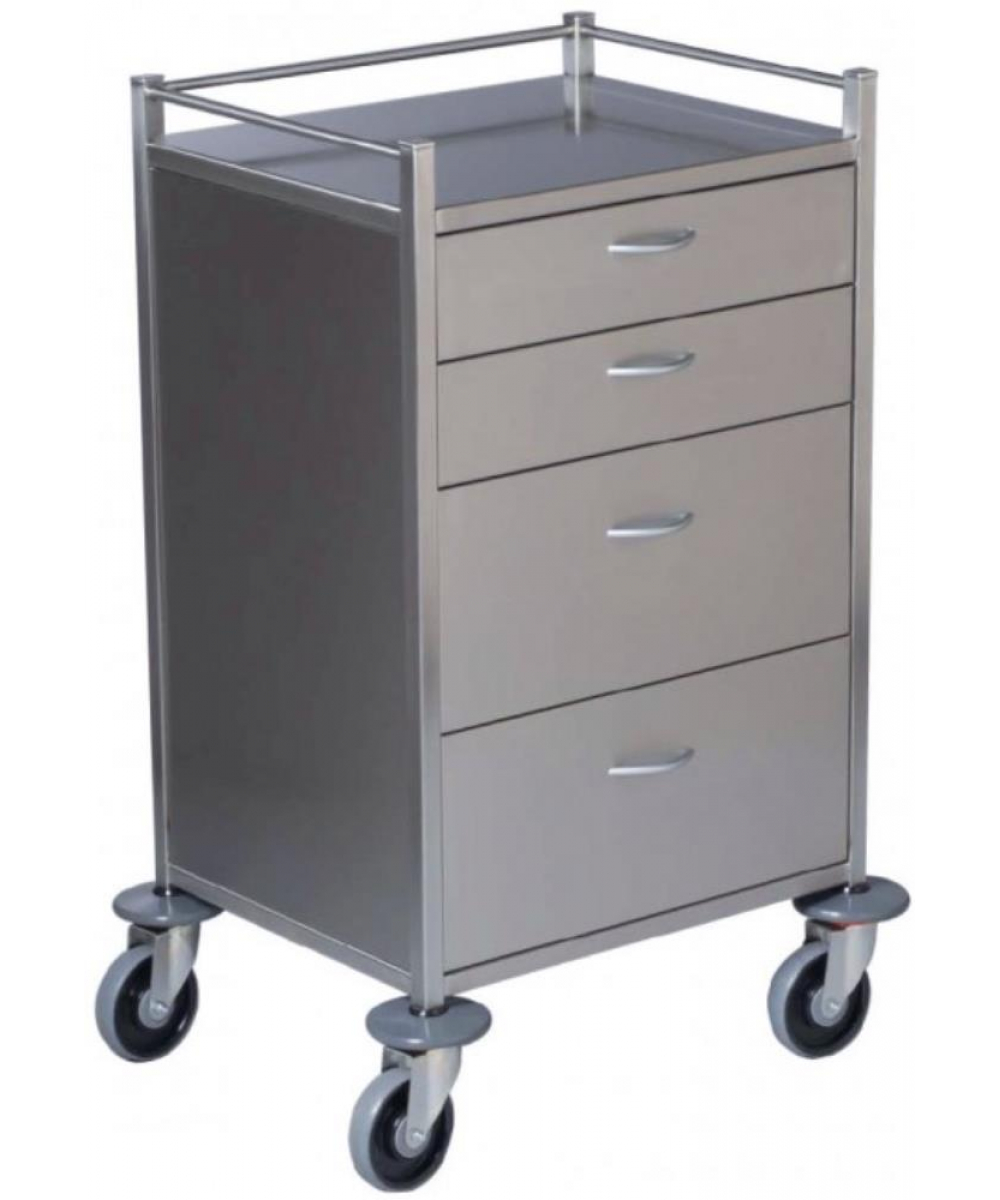Carts: (90, 8, 912, 1194)
